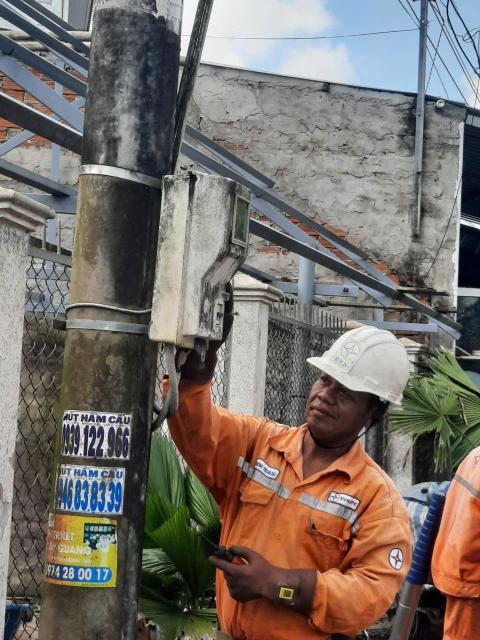gloves: (202, 524, 329, 617), (173, 284, 243, 385)
helmet: (308, 302, 419, 420)
